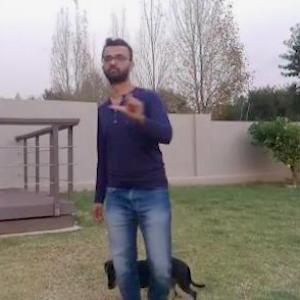land_hand: (117, 76, 148, 120)
